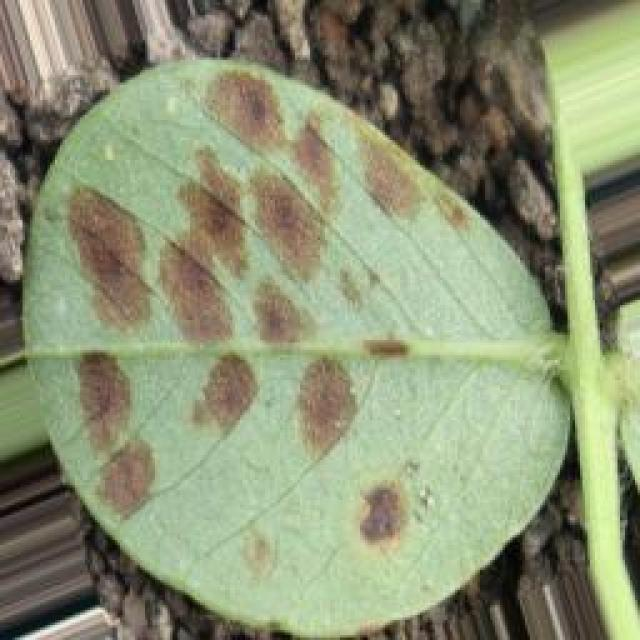Whitefly: (54, 61, 539, 592)
